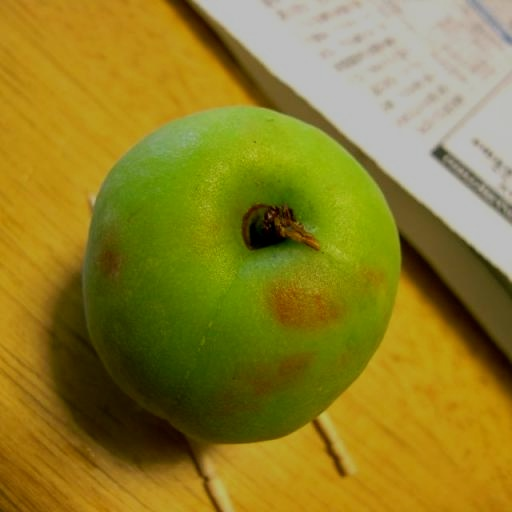fruit: (83, 108, 399, 442)
